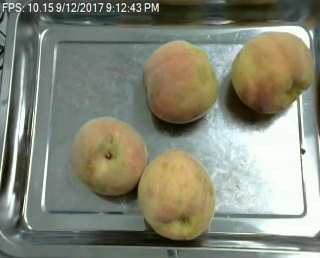Peach: (228, 29, 312, 115), (139, 148, 216, 240), (142, 38, 219, 124), (71, 116, 147, 196)
